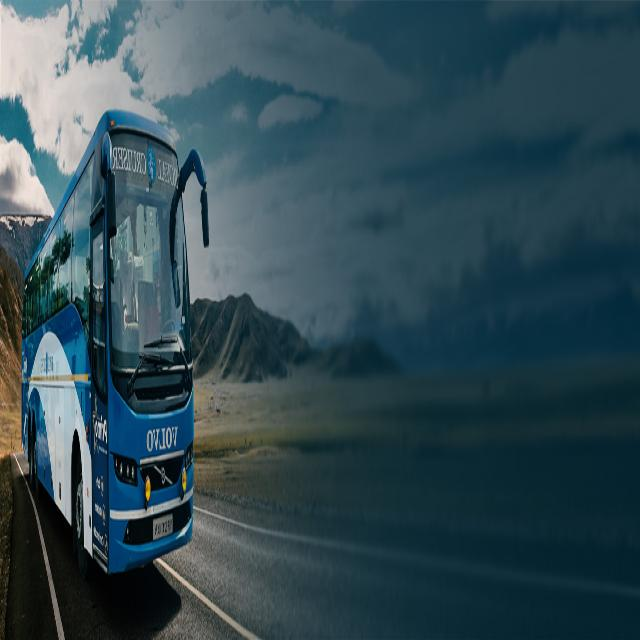bus: (21, 111, 209, 573)
